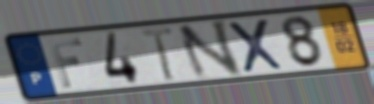4: (103, 30, 142, 87)
8: (279, 14, 327, 69)
F: (46, 36, 86, 90)
N: (174, 17, 246, 83)
T: (138, 25, 176, 83)
X: (223, 16, 288, 75)
